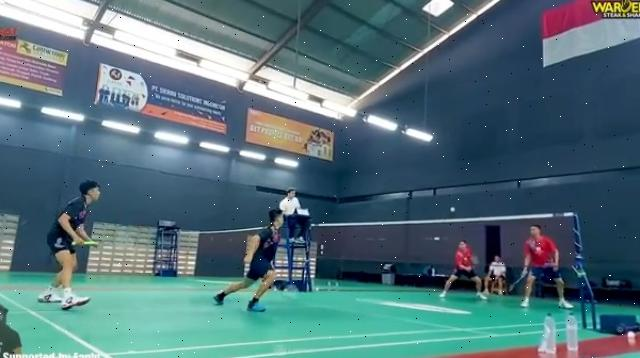Shuttlecock: (449, 202, 461, 212)
